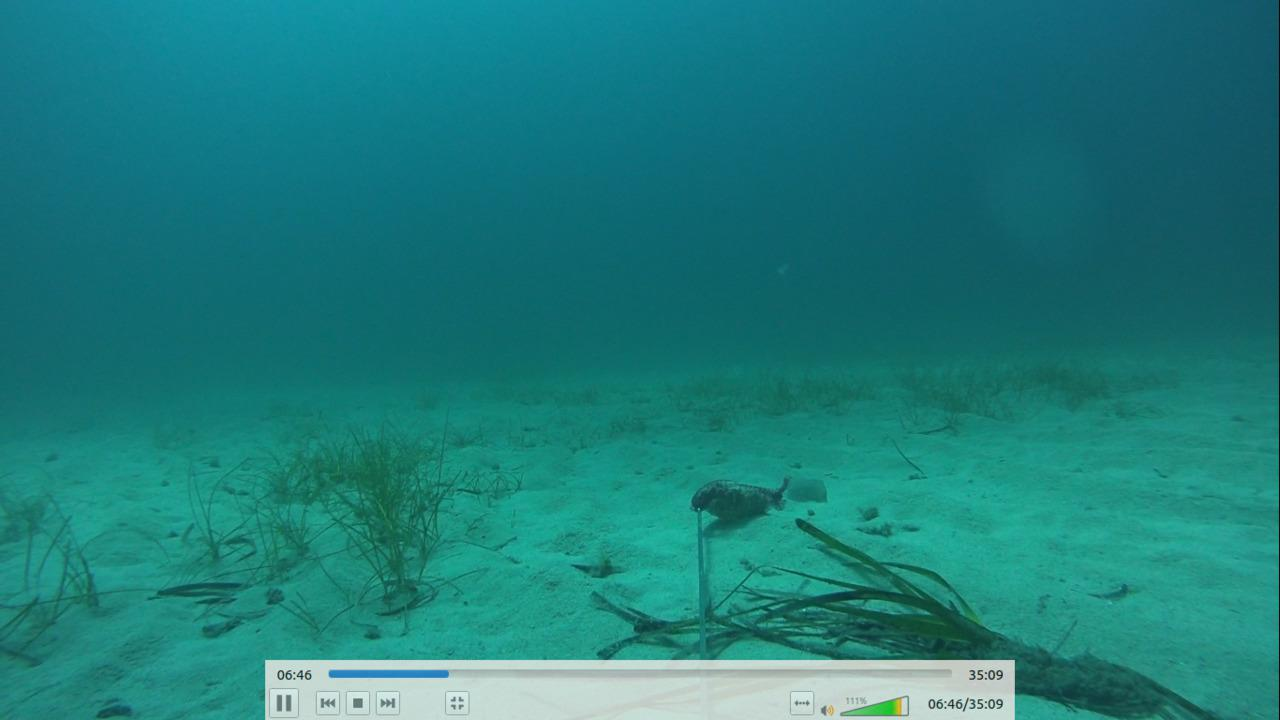raor: (769, 459, 836, 510)
